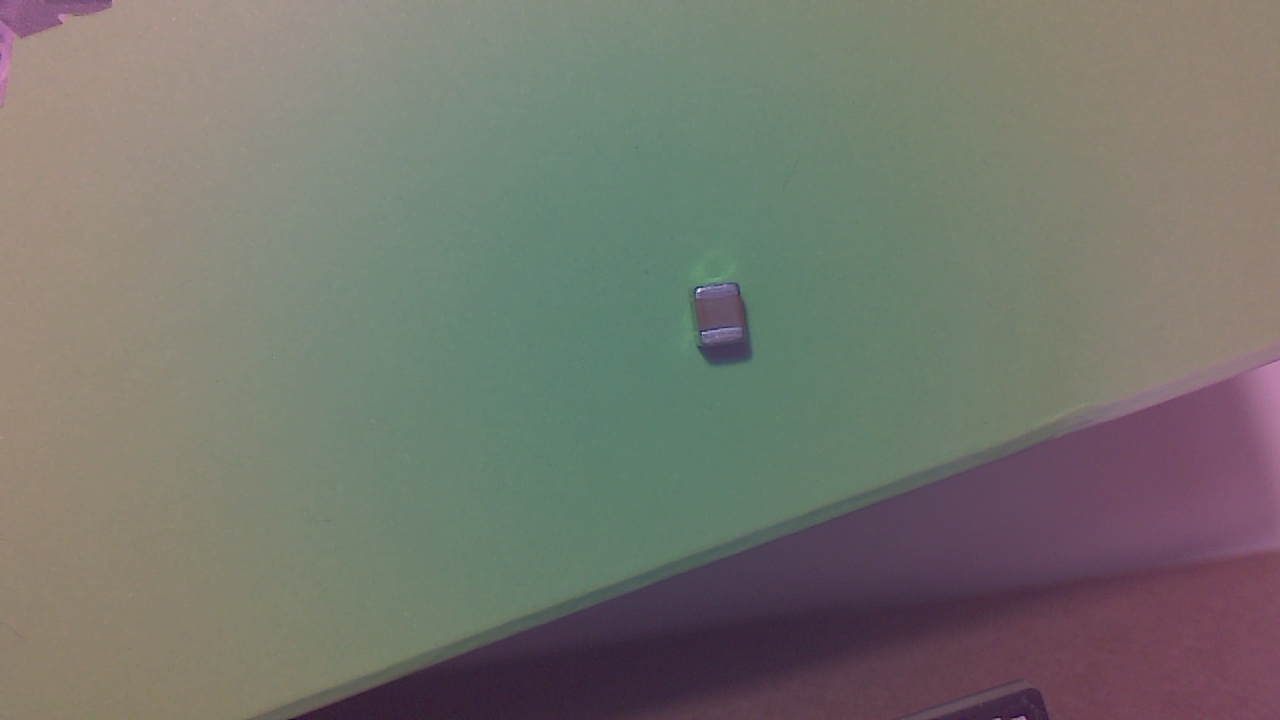Condensator: (690, 283, 760, 363)
